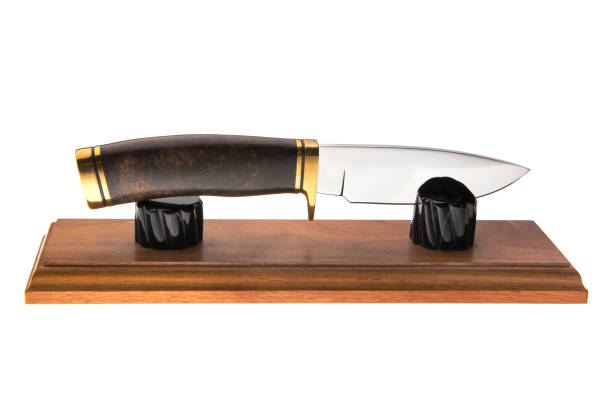knife: (71, 129, 535, 221)
